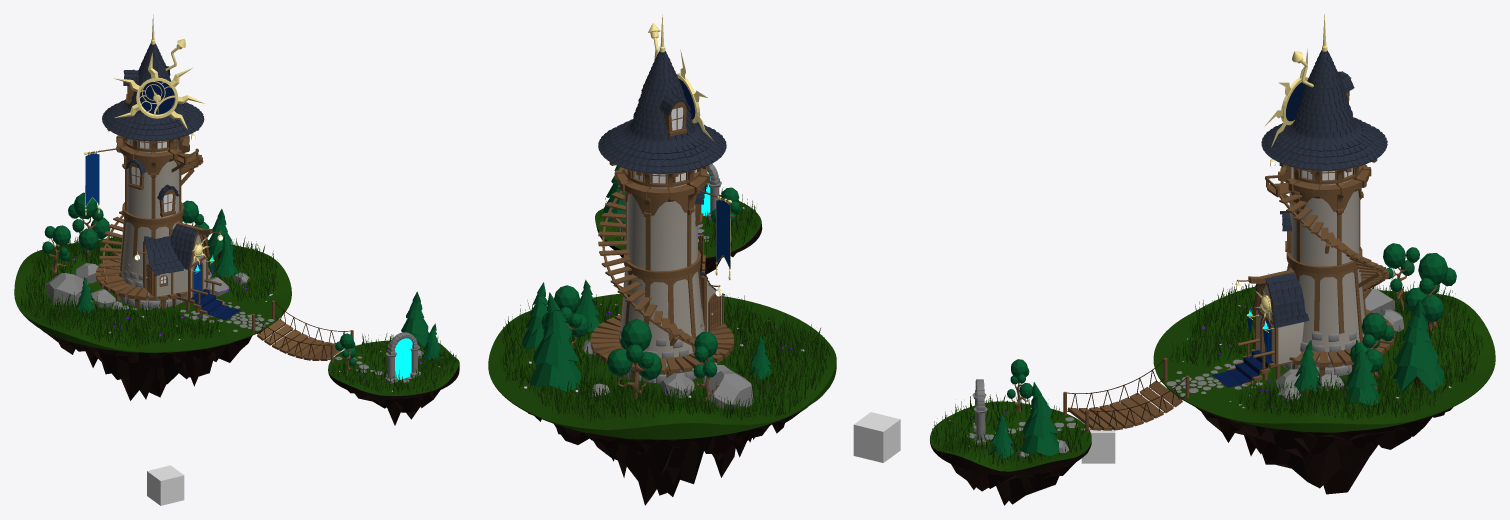
Rendered from tower3.glb.
3 views of the same model, side by side, from view 1: azimuth 30°, elevation 25°; view 2: azimuth 150°, elevation 25°; view 3: azimuth 270°, elevation 25° (orthographic). The views are drawn at different scales.
Visible parts, largest first — view 1: object 724, object 1, object 4, object 24, object 671, object 734, object 161, object 828, object 752; view 2: object 724, object 1, object 4, object 24, object 671, object 161, object 828, object 650, Icosphere.006_Material.008_0; view 3: object 724, object 4, object 1, object 24, object 671, object 161, object 734.
Part boxes in pixels (x1=…): object 724: x1=14, y1=236, x2=459, y2=425; object 1: x1=49, y1=14, x2=352, y2=505; object 4: x1=42, y1=192, x2=441, y2=361; object 24: x1=119, y1=139, x2=206, y2=308; object 671: x1=45, y1=260, x2=423, y2=383; object 734: x1=139, y1=81, x2=240, y2=319; object 161: x1=105, y1=45, x2=199, y2=272; object 828: x1=85, y1=153, x2=99, y2=205; object 752: x1=196, y1=255, x2=412, y2=379; object 724: x1=488, y1=187, x2=836, y2=505; object 1: x1=566, y1=14, x2=900, y2=462; object 4: x1=522, y1=165, x2=772, y2=391; object 24: x1=620, y1=169, x2=722, y2=382; object 671: x1=582, y1=163, x2=753, y2=408; object 161: x1=602, y1=54, x2=722, y2=173; object 828: x1=716, y1=199, x2=730, y2=267; object 650: x1=660, y1=373, x2=695, y2=397; Icosphere.006_Material.008_0: x1=607, y1=348, x2=632, y2=376; object 724: x1=930, y1=273, x2=1495, y2=505; object 4: x1=989, y1=243, x2=1456, y2=458; object 1: x1=1011, y1=14, x2=1437, y2=463; object 24: x1=1258, y1=167, x2=1364, y2=377; object 671: x1=967, y1=288, x2=1395, y2=457; object 161: x1=1266, y1=53, x2=1383, y2=327; object 734: x1=1212, y1=82, x2=1305, y2=387.
Size of the model in its own units: 24.46 by 31.97 by 33.48.
